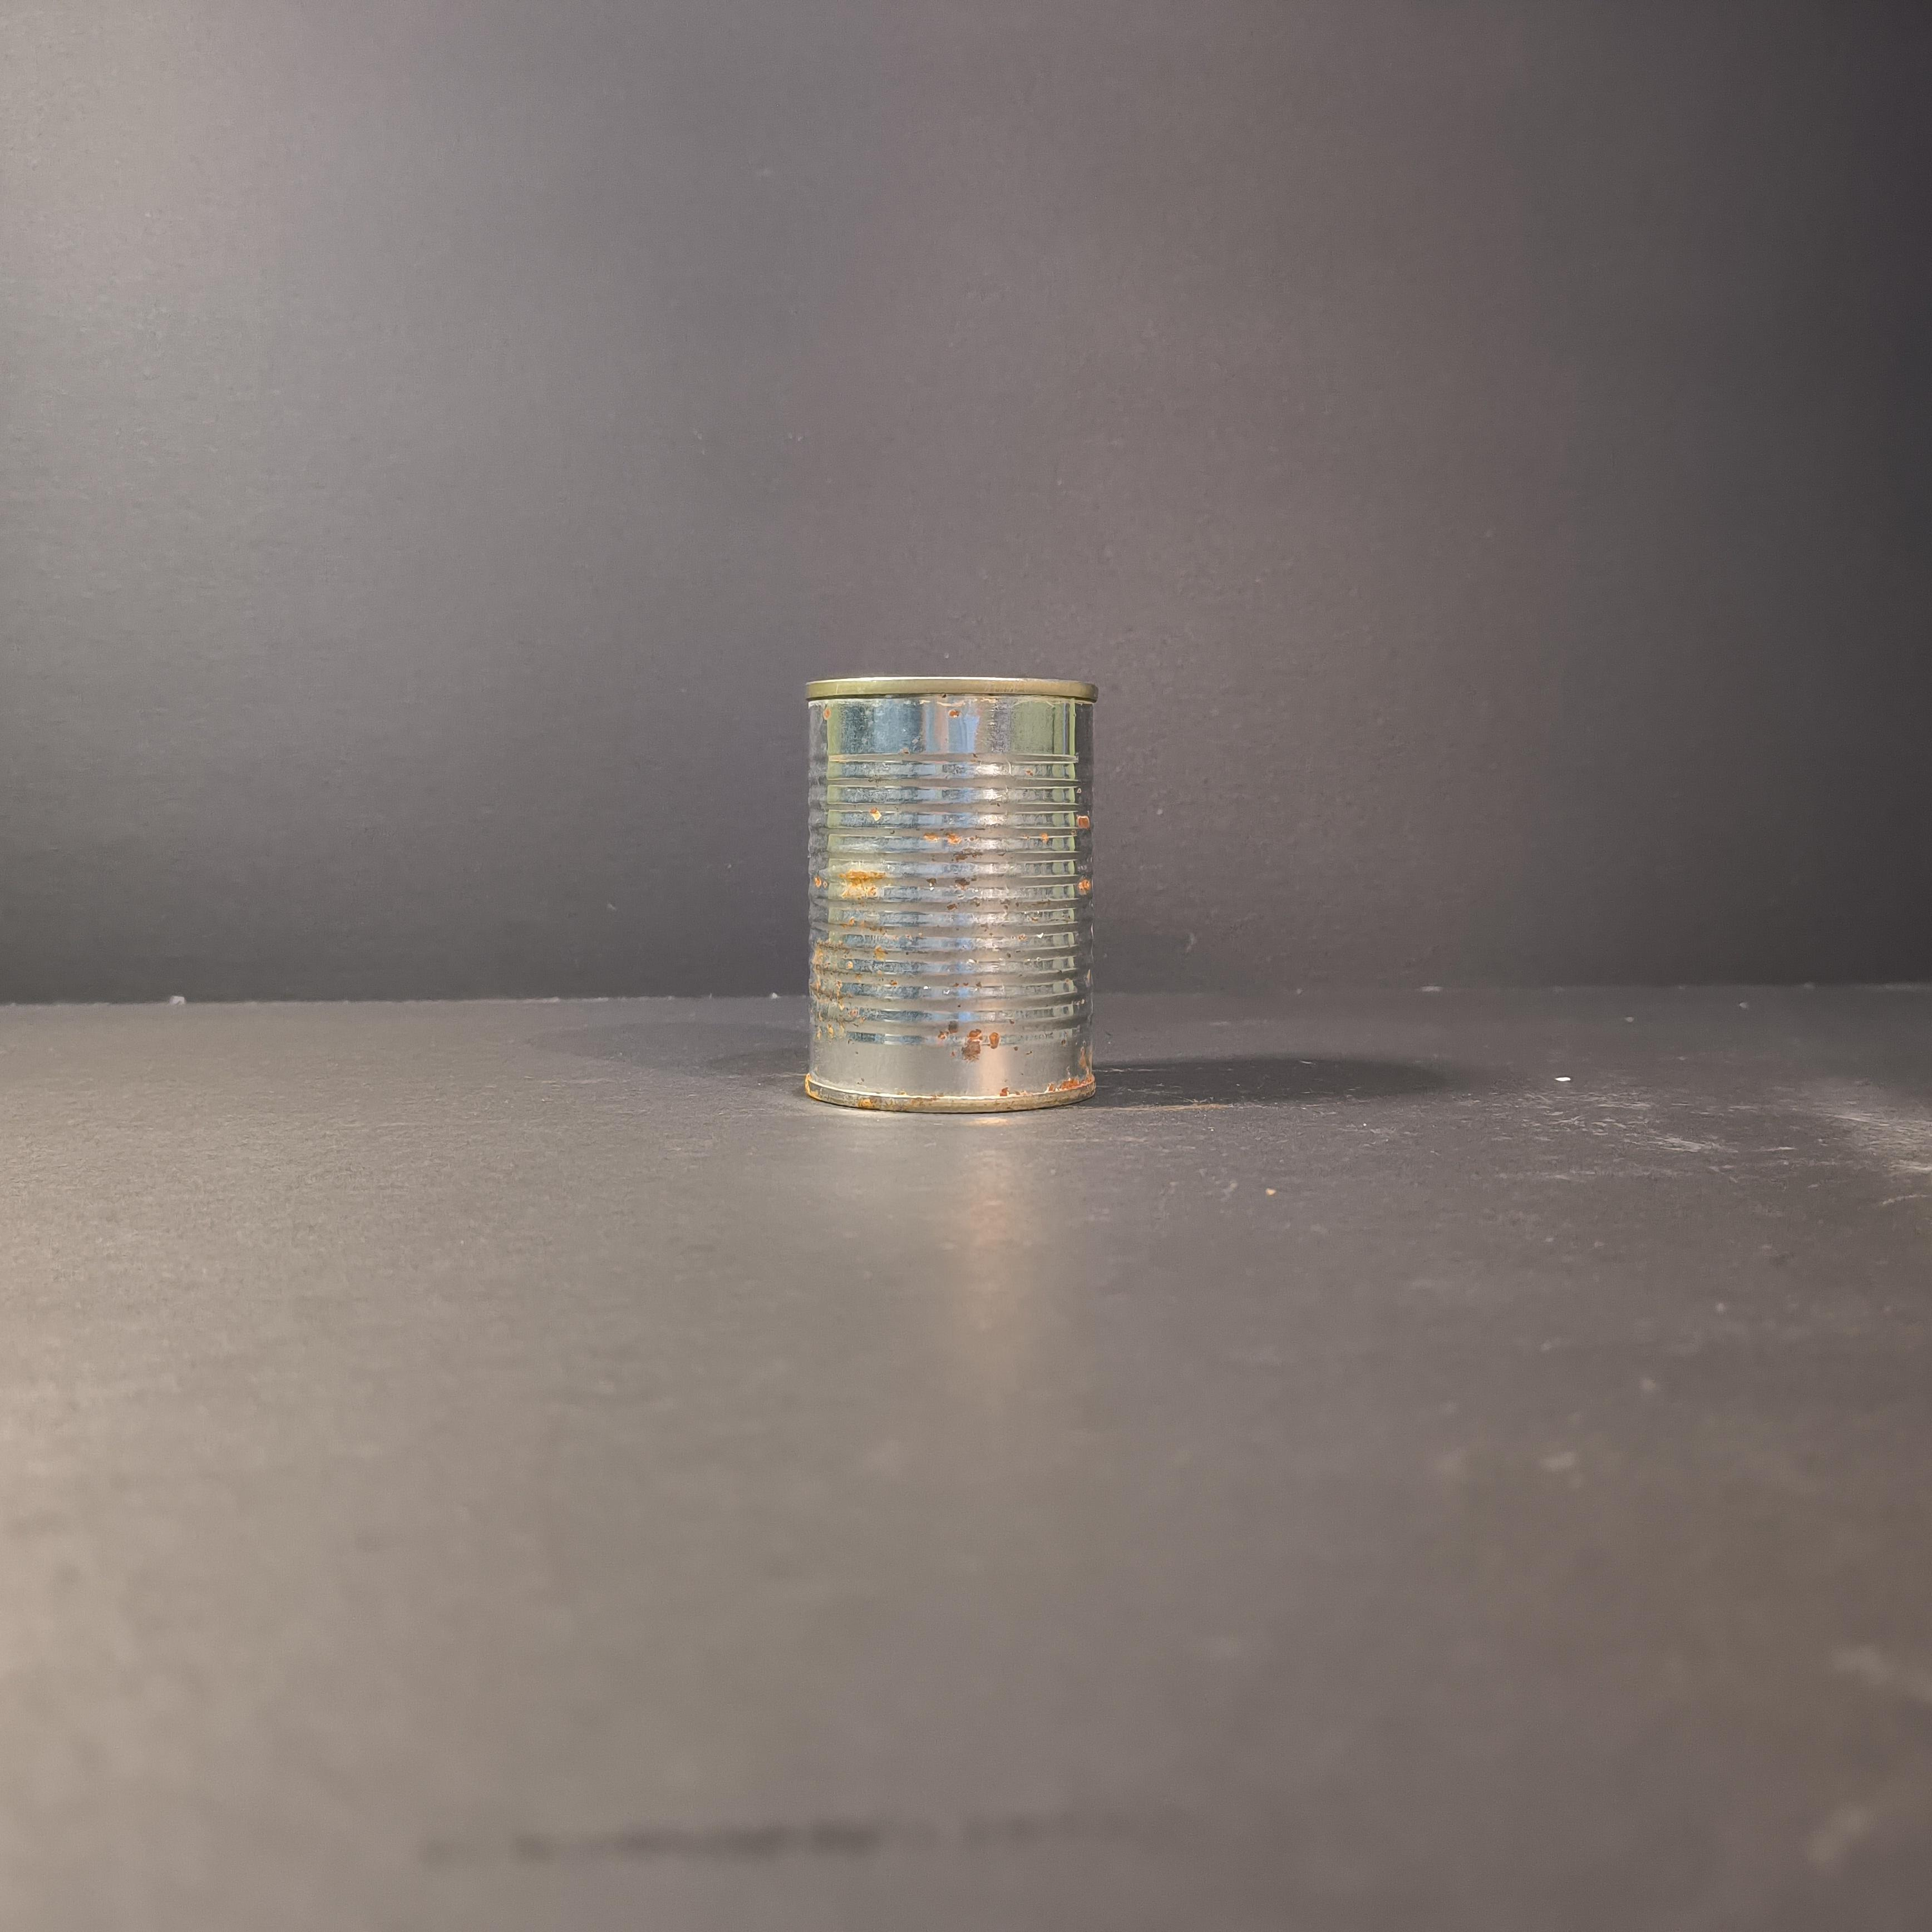Rusted: (801, 655, 1104, 1138)
